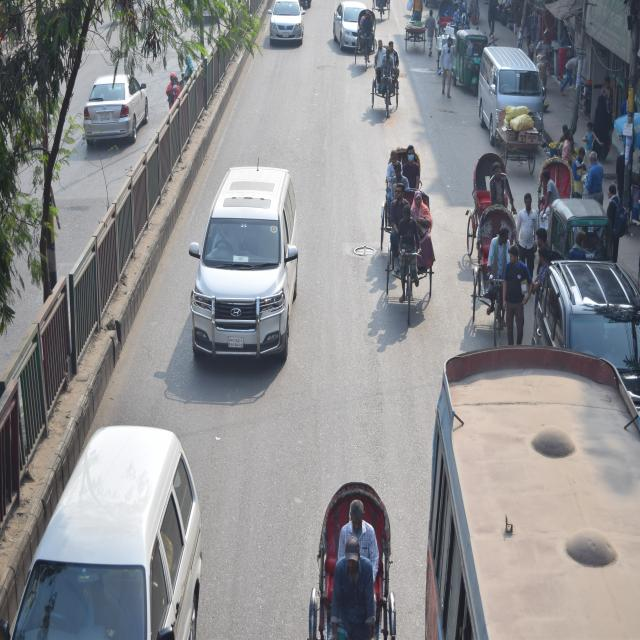car: (533, 252, 640, 404), (81, 73, 145, 143), (264, 0, 307, 49), (331, 0, 365, 47)
microbus: (15, 418, 201, 640), (184, 148, 301, 378), (476, 38, 544, 148)
